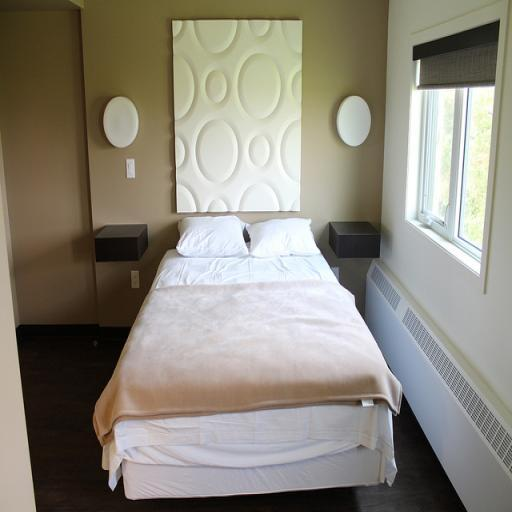bed: (84, 194, 416, 504)
